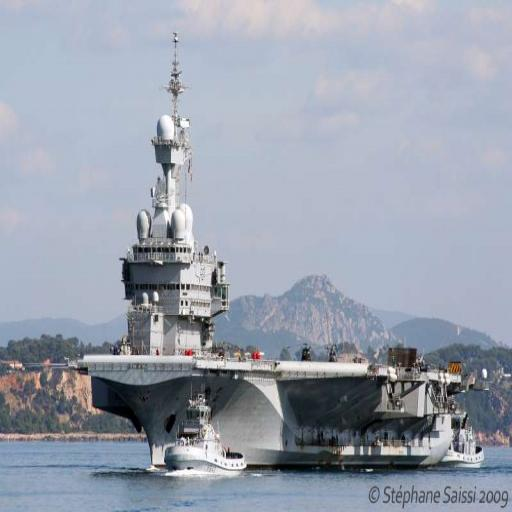Portanaves: (80, 42, 473, 475)
